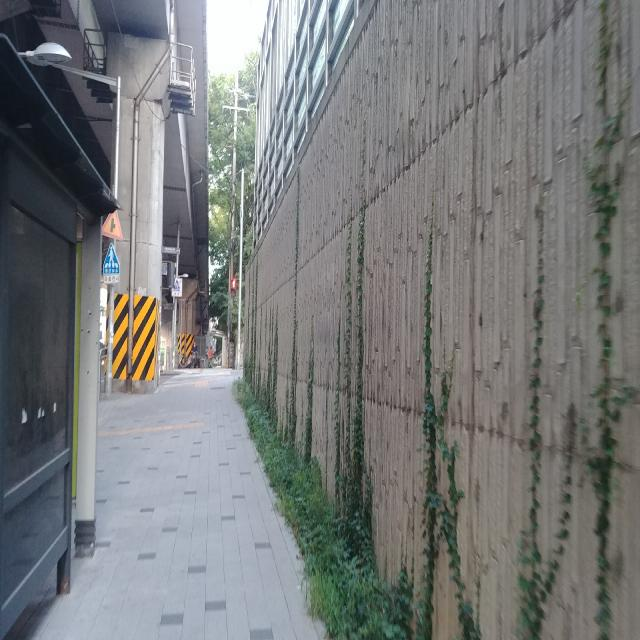빨간불: (230, 276, 238, 300)
횡단보도: (162, 371, 232, 384)
